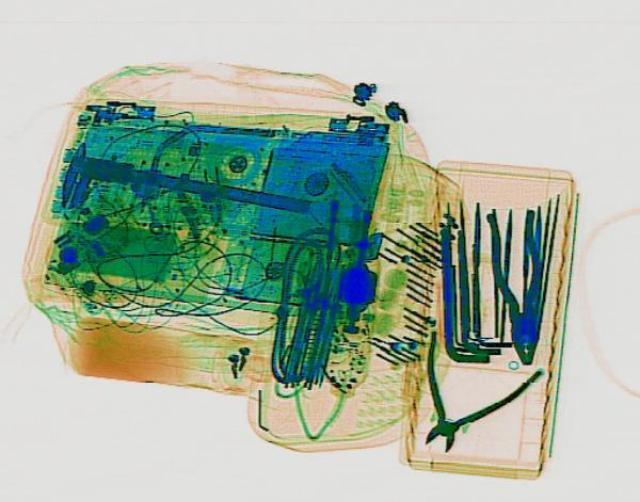Pliers: (377, 327, 548, 462), (483, 207, 553, 363)
